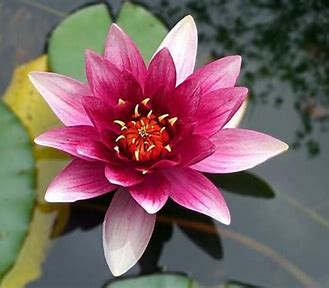inorganic: (2, 5, 326, 286)
